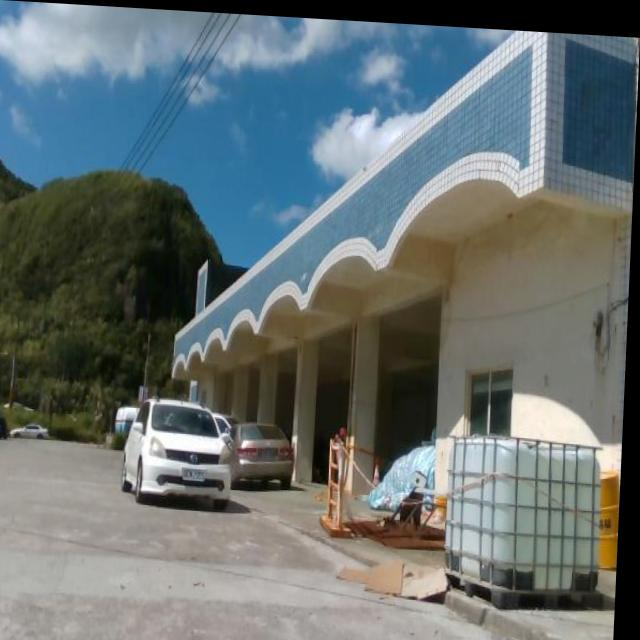pollute: (450, 431, 610, 606), (349, 420, 451, 547), (337, 556, 459, 596), (603, 457, 625, 564)
